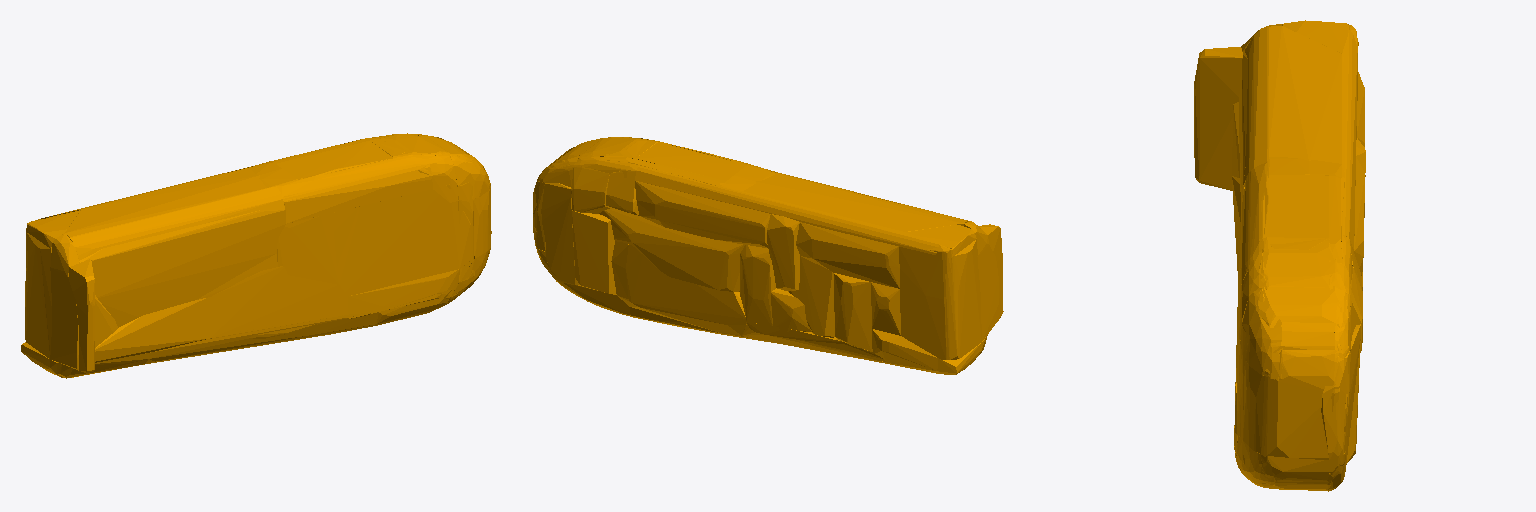
URDF robot description (remote-japanese):
<?xml version="1.0" ?>
<robot name="remote-japanese">
  <link name="baseLink">
    <contact>
      <lateral_friction value="1.0"/>
      <inertia_scaling value="3.0"/>
    </contact>
    <inertial>
      <origin rpy="0 0 0" xyz="0.000 0.000 0.000"/>
       <mass value=".1"/>
       <inertia ixx="1" ixy="0.0" ixz="0.0" iyy="1" iyz="0.0" izz="1"/>
    </inertial>
    <visual>
      <origin rpy="0 0 0" xyz="0 0 0"/>
      <geometry>
        <mesh filename="remote/remote-japanese.obj" scale="1.0 1.0 1.0"/>
      </geometry>
    </visual>
    <collision>
      <origin rpy="0 0 0" xyz="0 0 0"/>
      <geometry>
        <mesh filename="../collision/remote/remote-japanese.obj" scale="1.0 1.0 1.0"/>
      </geometry>
    </collision>
  </link>
</robot>
        

--- Render facts (derived) ---
Views: 3 orthographic renders of the robot side by side, from view 1: azimuth 30°, elevation 25°; view 2: azimuth 150°, elevation 25°; view 3: azimuth 270°, elevation 25°.
Robot: remote-japanese — 1 links, 0 joints (none); root link baseLink; default pose: every joint at zero.
Links seen in each view (by area): view 1: baseLink; view 2: baseLink; view 3: baseLink.
Boxes of the visible links, x1=… form: baseLink: x1=21, y1=133, x2=491, y2=378; baseLink: x1=533, y1=137, x2=1003, y2=374; baseLink: x1=1194, y1=20, x2=1365, y2=491.
Bounding box of the posed robot: 0.1388 × 0.034 × 0.0492 m (x, y, z).
1 mesh visuals loaded from 1 distinct referenced files (1 OBJ).